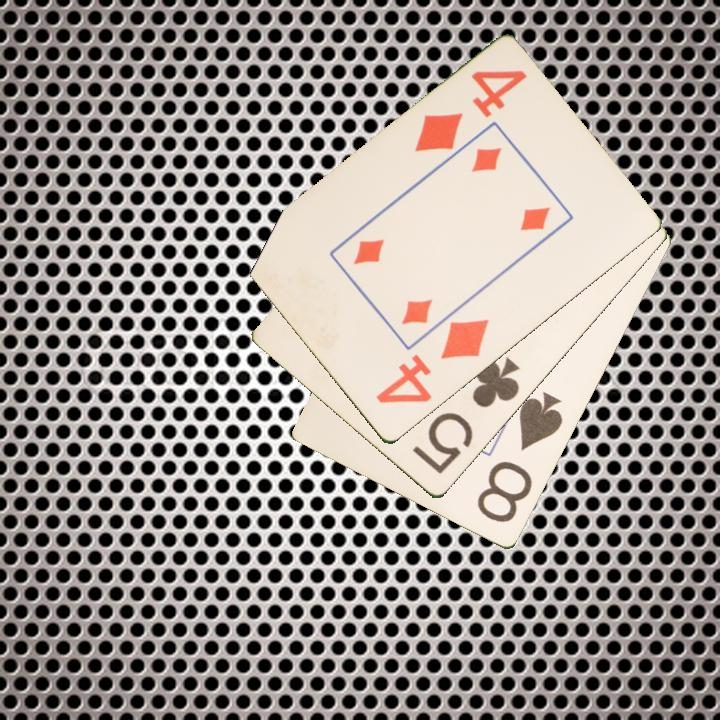4d: (372, 316, 492, 408), (411, 66, 530, 156)
5c: (409, 353, 523, 478)
8s: (473, 389, 566, 526)
